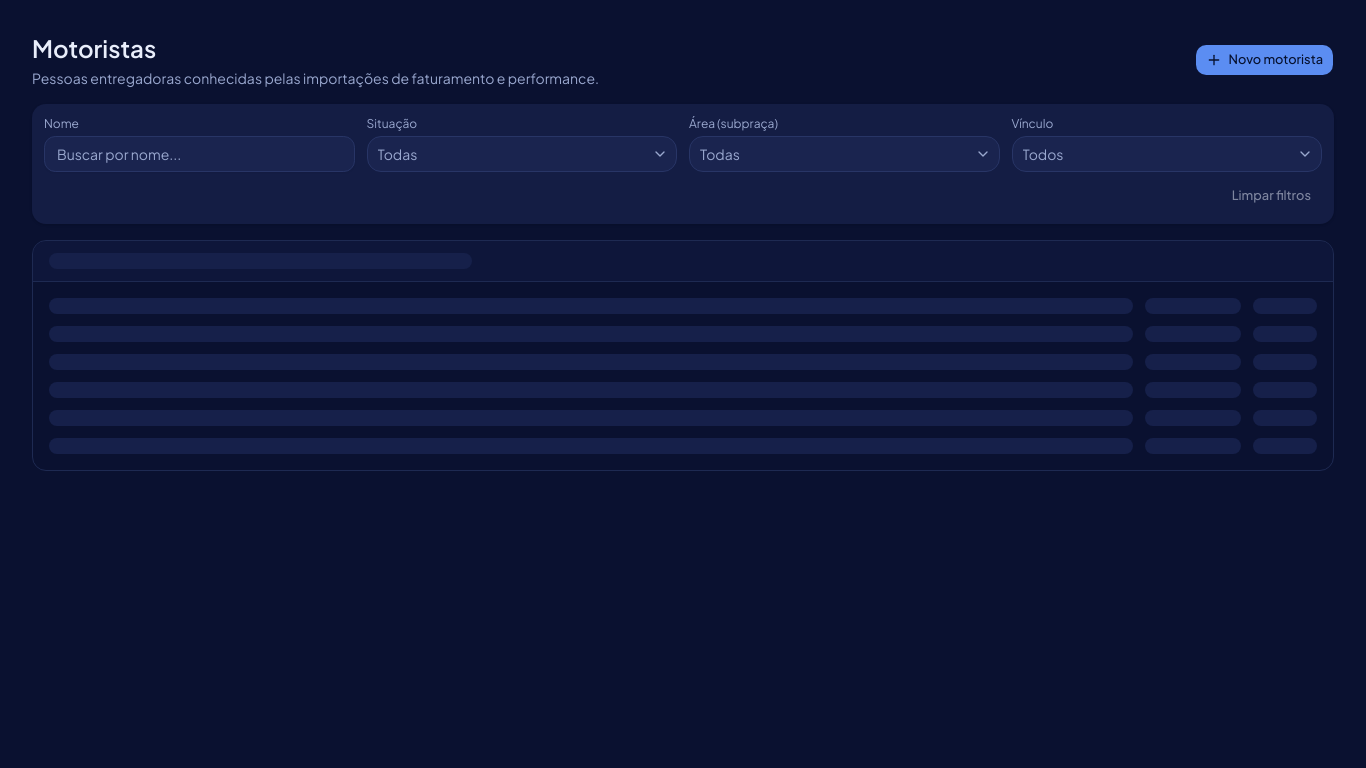
Test: MotoristasPage — CriarMotoristaDialog (FASE 4, task 4.3) › uuid duplicado (409) exibe erro claro no campo, sem fechar o diálogo
The image size is (1366, 768).
Click the button "Novo motorista" at (1265, 60), box 1196,44 -> 1334,76
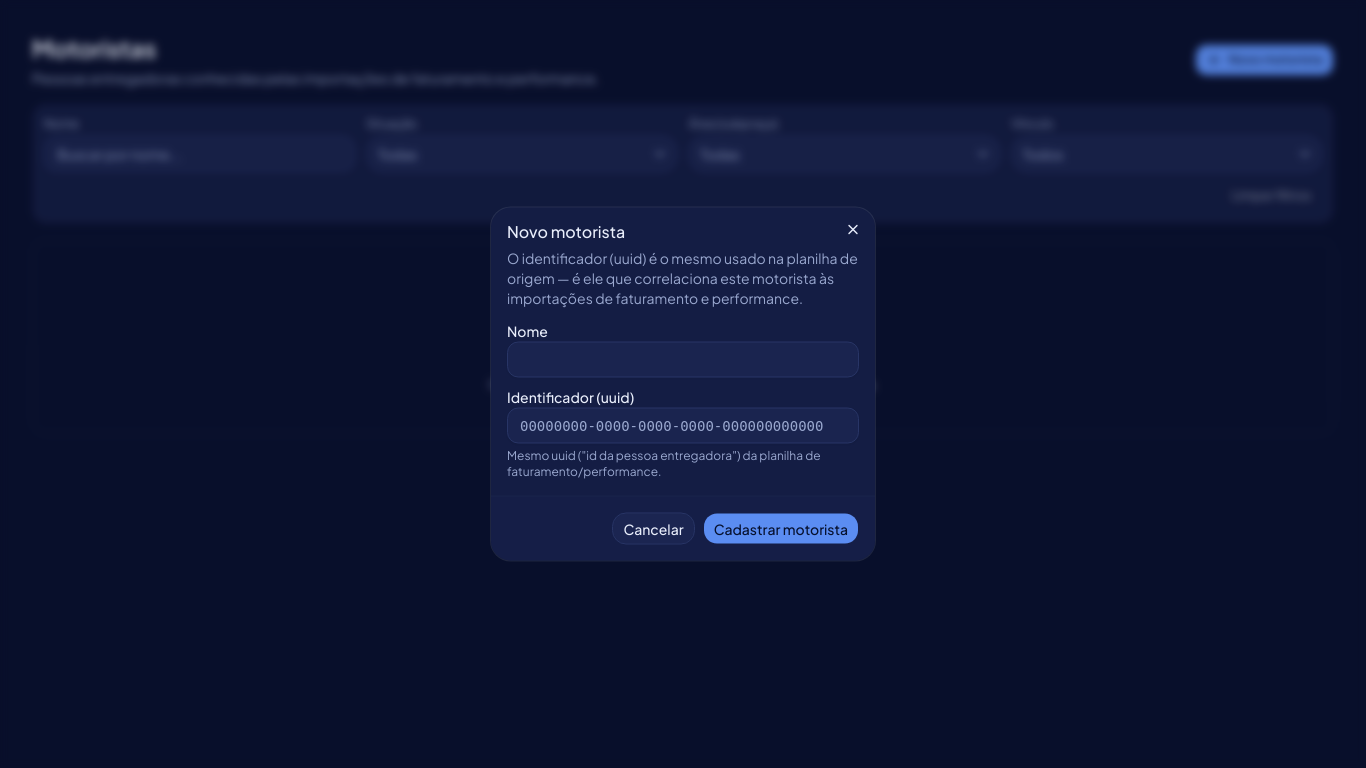
Check: the heading "Novo motorista" is shown, box 507,220 -> 625,242
Type "Fulano da Silva" into the field labelled "Nome" at (683, 360), box 507,342 -> 859,378
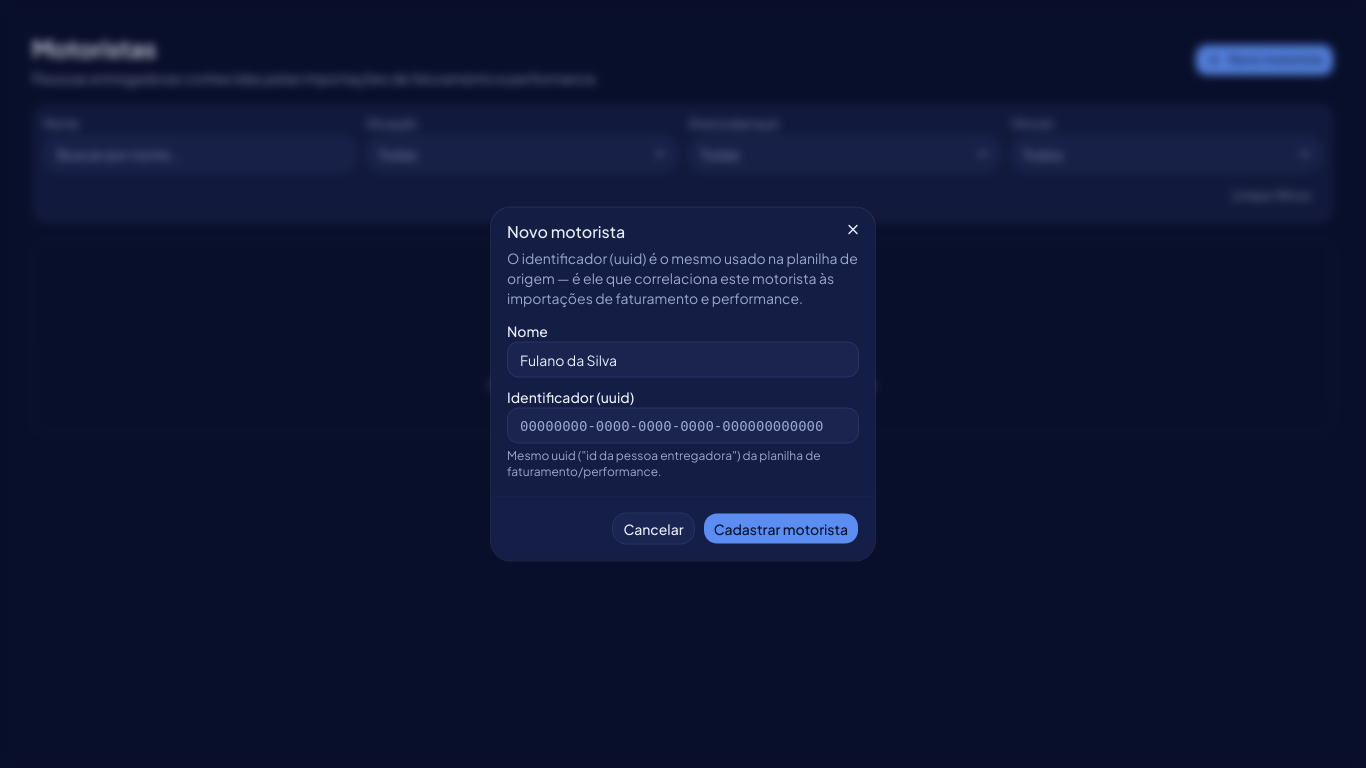
Type "11111111-1111-1111-1111-111111111111" into the field labelled "Identificador (uuid)" at (683, 426), box 507,408 -> 859,444
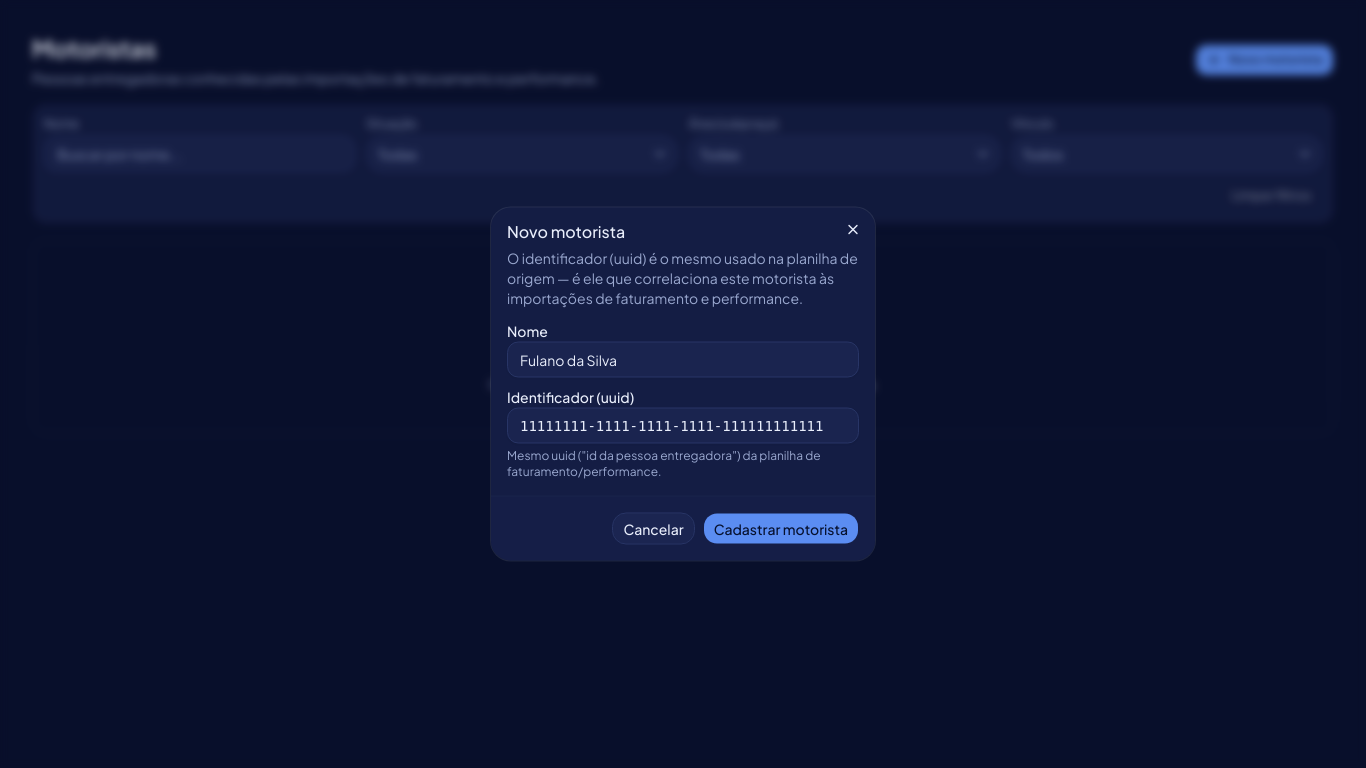
Click the button "Cadastrar motorista" at (781, 528), box 703,512 -> 859,544
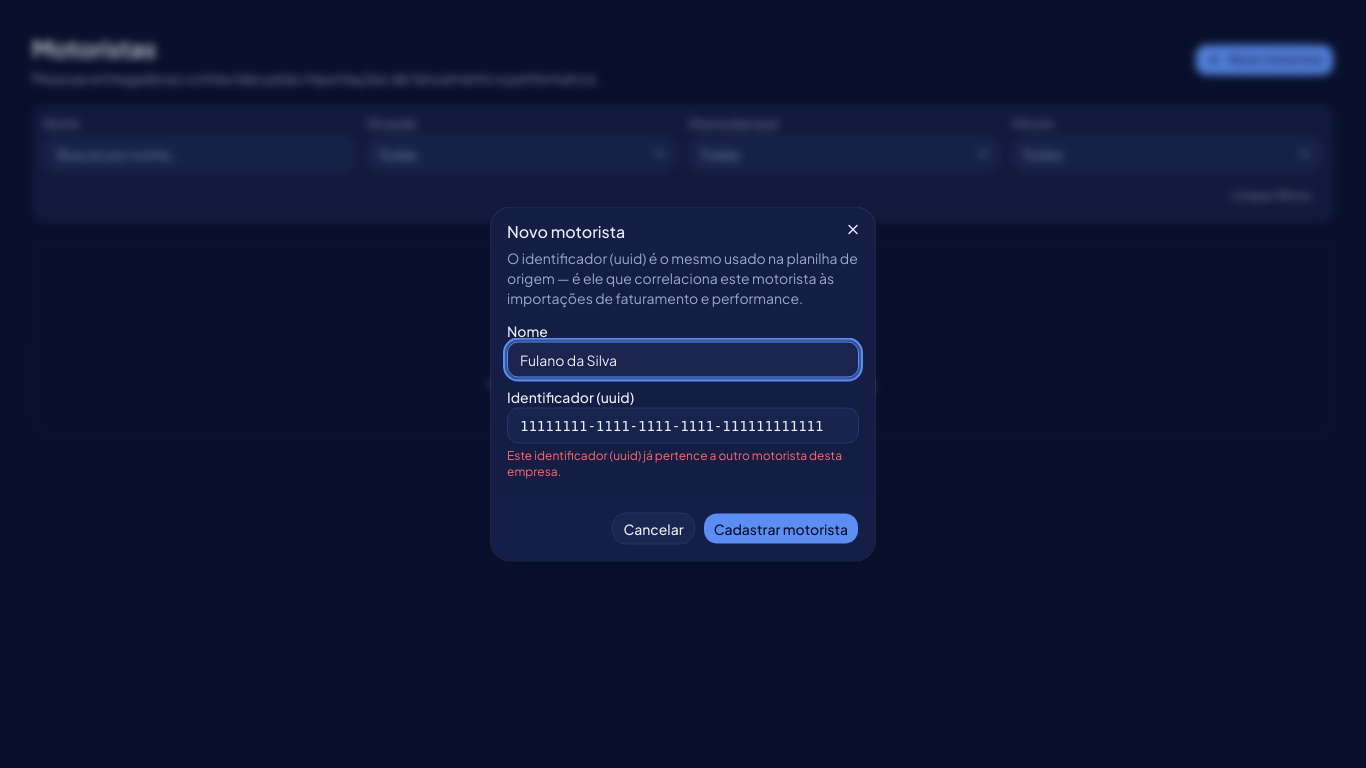
Check: the heading "Novo motorista" is shown, box 507,220 -> 625,242
Check: the text "Este identificador (uuid) já pertence a outro motorista desta empresa." is shown, box 507,448 -> 859,480
